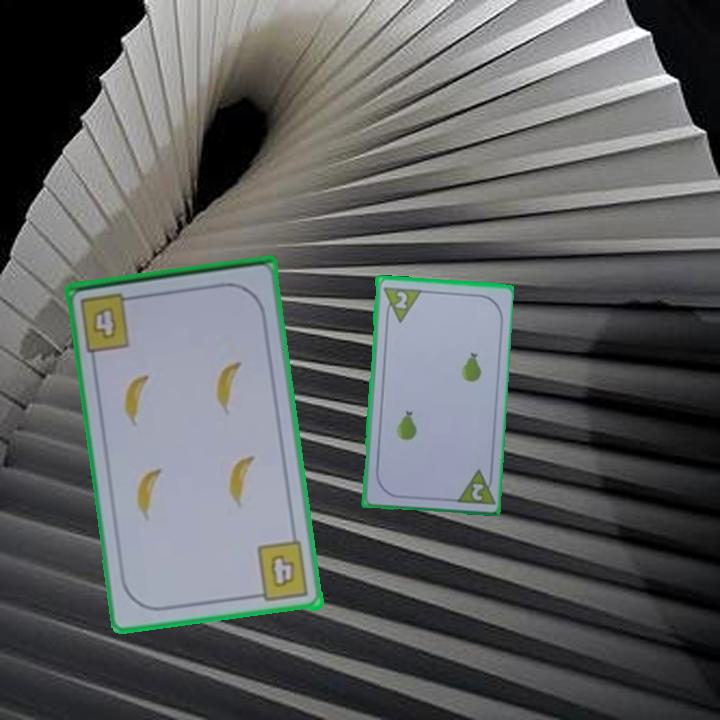2p: (451, 465, 496, 507), (379, 283, 423, 325)
4b: (249, 538, 312, 605), (89, 303, 120, 343)
